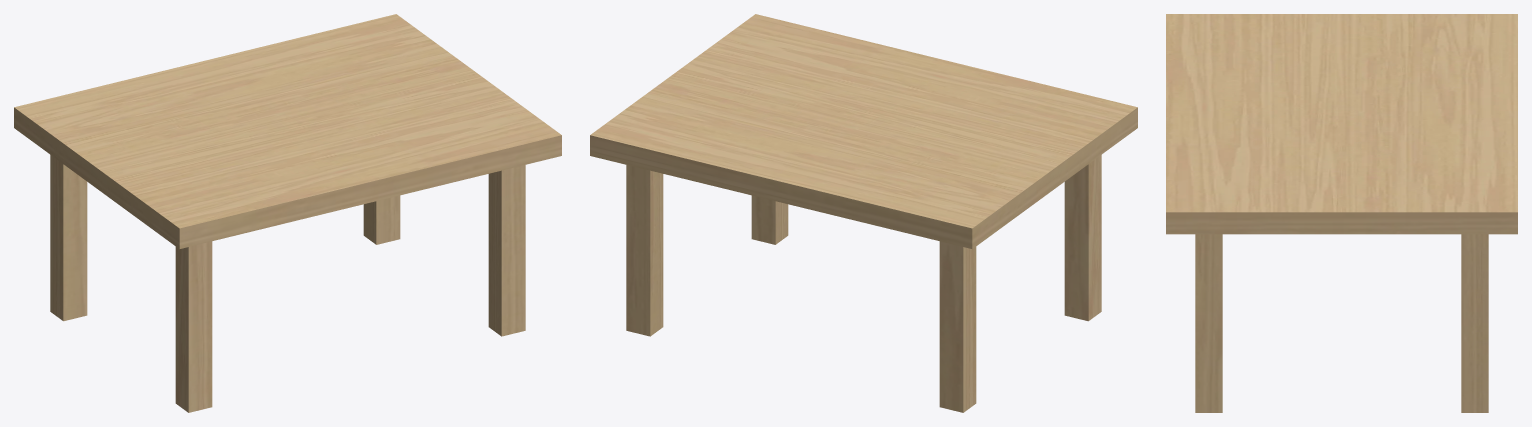
The model's file is lowTable.glb.
The picture shows the model from 3 angles, left to right: view 1: azimuth 30°, elevation 25°; view 2: azimuth 150°, elevation 25°; view 3: azimuth 270°, elevation 25°; orthographic projection. The views are drawn at different scales.
Parts seen in each view (by area): view 1: table; view 2: table; view 3: table.
Boxes of the visible parts, <box> form: table: <box>14,14,561,412</box>; table: <box>590,14,1137,412</box>; table: <box>1166,14,1517,412</box>.
Size of the model in its own units: 0.8 by 0.4 by 0.6.
Materials: 1 (1 with a texture image).
